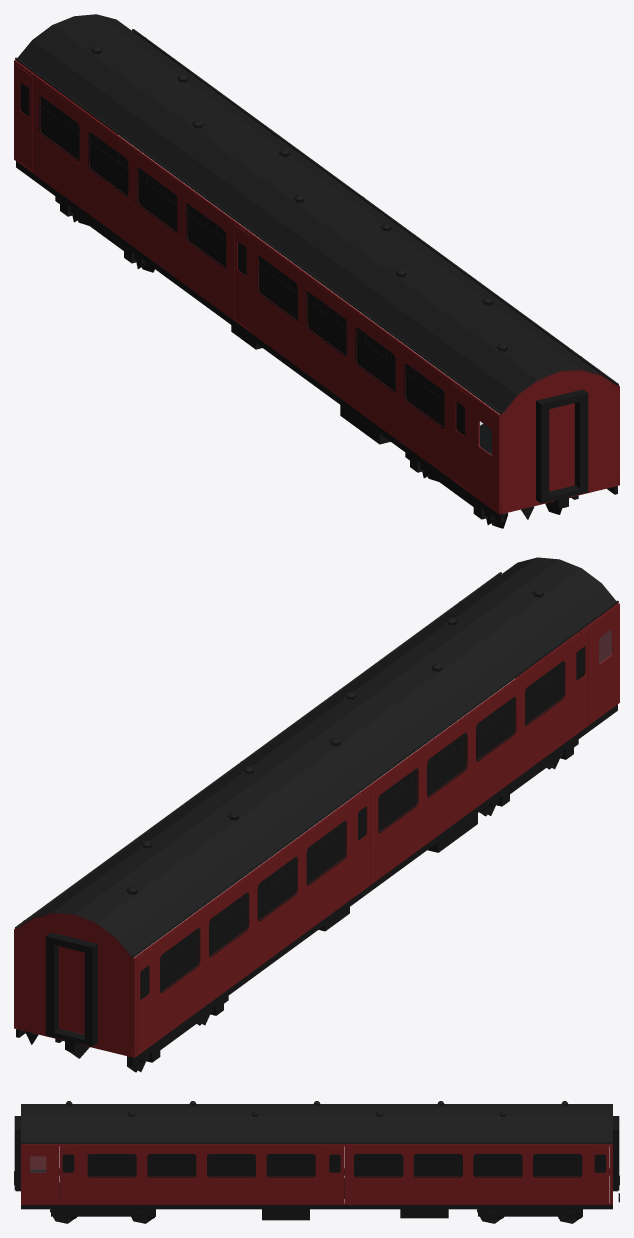
Rendered from coach_lod2.glb.
3 renders of one model, top to bottom at view 1: azimuth 30°, elevation 25°; view 2: azimuth 150°, elevation 25°; view 3: azimuth 270°, elevation 25°, orthographic. The views are drawn at different scales.
Visible parts, largest first — view 1: coach_static_roof_black, coach_static_coach_maroon, coach_static_underframe, gw_door_A_coach_maroon; view 2: coach_static_roof_black, coach_static_coach_maroon, coach_static_underframe, gw_door_B_coach_maroon; view 3: coach_static_coach_maroon, coach_static_roof_black, coach_static_underframe, coach_static_glass.
Part boxes in pixels (x1=…): coach_static_roof_black: x1=15, y1=14, x2=618, y2=414; coach_static_coach_maroon: x1=14, y1=37, x2=619, y2=514; coach_static_underframe: x1=16, y1=82, x2=617, y2=528; gw_door_A_coach_maroon: x1=549, y1=403, x2=574, y2=490; coach_static_roof_black: x1=15, y1=557, x2=618, y2=958; coach_static_coach_maroon: x1=14, y1=580, x2=619, y2=1057; coach_static_underframe: x1=16, y1=646, x2=617, y2=1072; gw_door_B_coach_maroon: x1=59, y1=946, x2=84, y2=1034; coach_static_coach_maroon: x1=21, y1=1143, x2=612, y2=1204; coach_static_roof_black: x1=21, y1=1101, x2=612, y2=1143; coach_static_underframe: x1=14, y1=1116, x2=619, y2=1223; coach_static_glass: x1=30, y1=1156, x2=45, y2=1172.
Size of the model in its own units: 2.86 by 3.98 by 20.12.
